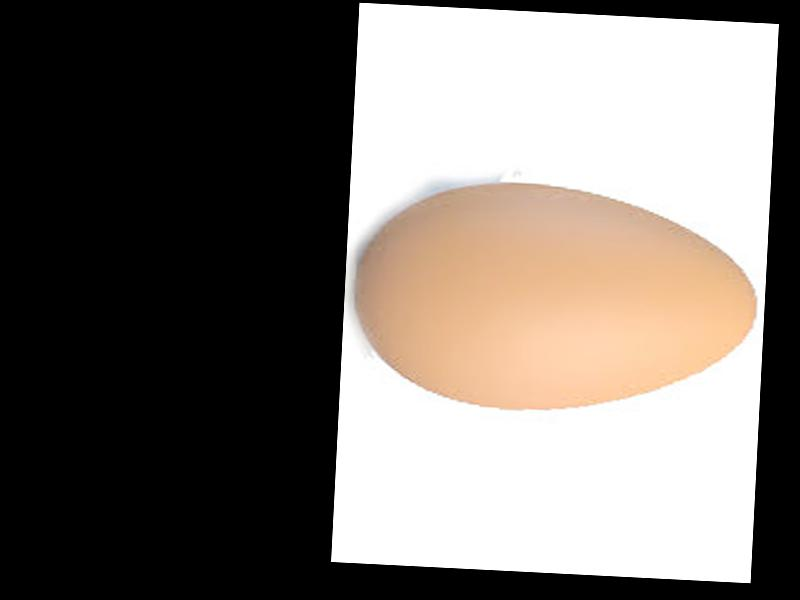Eggs: (348, 176, 759, 422)
